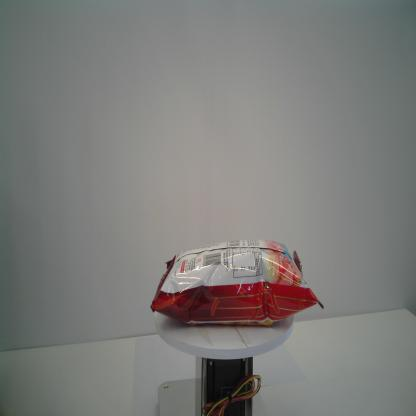Puffed Food: (150, 238, 324, 327)
